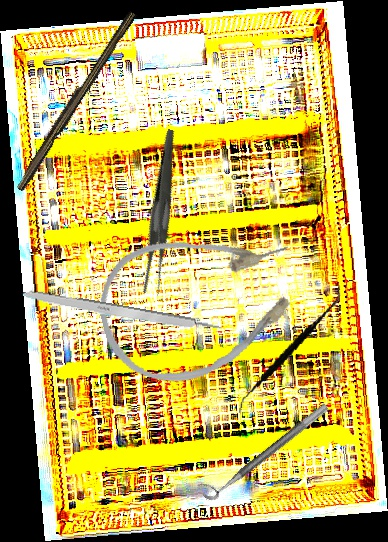Cannula: (85, 209, 316, 400)
Dressing Forceps: (101, 128, 224, 299)
Fixation Ring: (196, 392, 330, 505)
Scalpel Handle: (12, 7, 138, 194), (14, 286, 225, 338)
Spatula Surgical: (236, 271, 343, 427)
